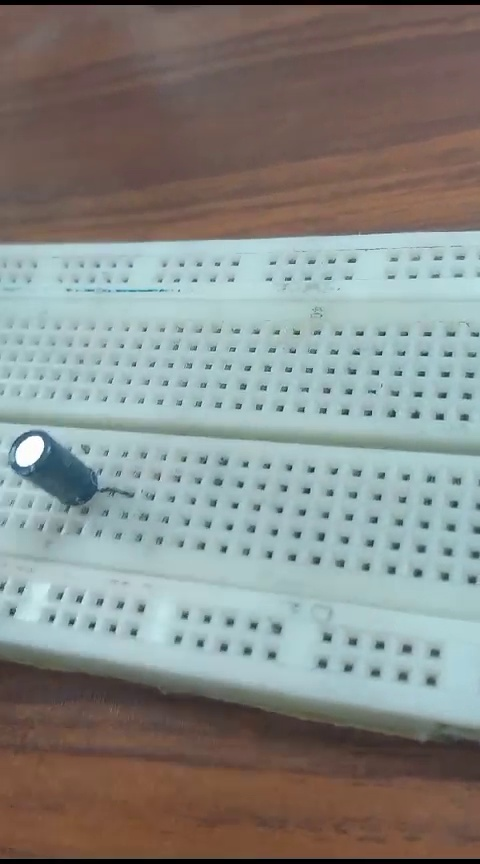capacitor: (10, 424, 120, 513)
